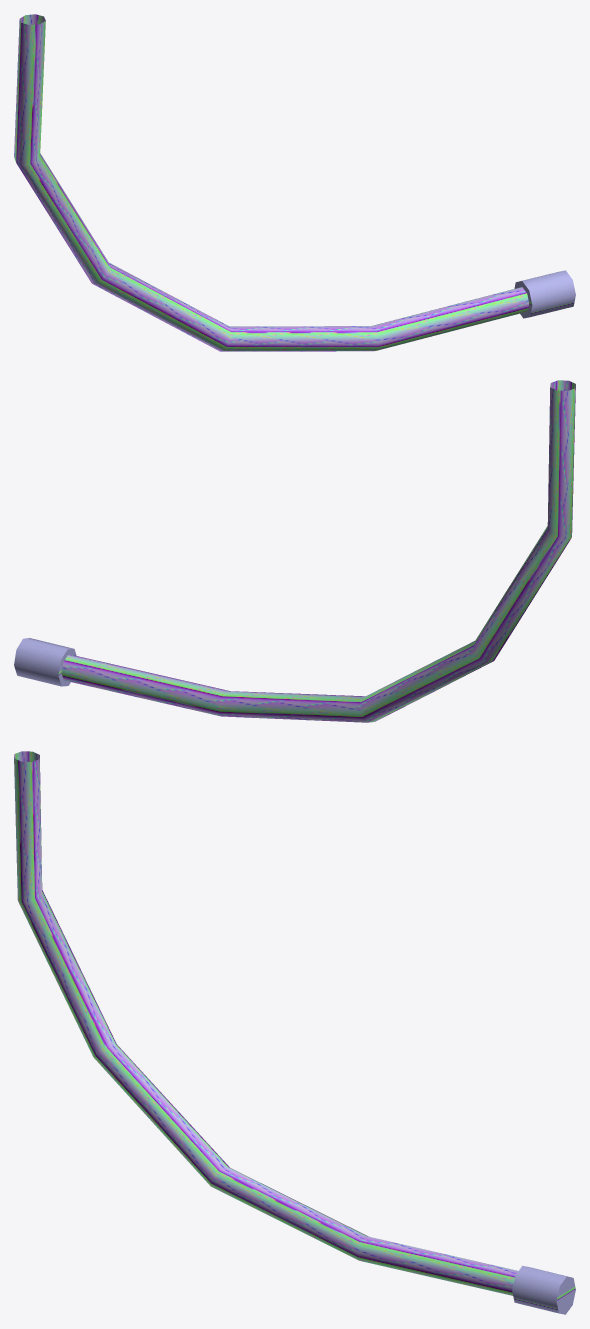
File: LitCableC2.fbx
3 renders of one model, top to bottom at view 1: azimuth 30°, elevation 25°; view 2: azimuth 150°, elevation 25°; view 3: azimuth 330°, elevation 25°, orthographic.
Parts seen in each view (by area): view 1: LitCableC2; view 2: LitCableC2; view 3: LitCableC2.
Boxes of the visible parts, x1,y1,x2,y2 form: LitCableC2: (14,14,575,351); LitCableC2: (14,380,575,722); LitCableC2: (14,751,575,1314).
Bounding box in the file's own units: 71.51 × 52.23 × 5.18.
1 material, 1 textured.
